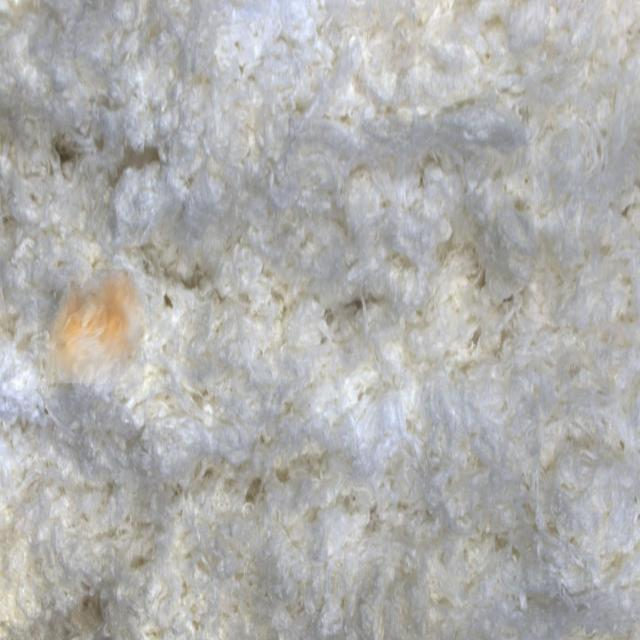dust: (38, 269, 145, 383)
